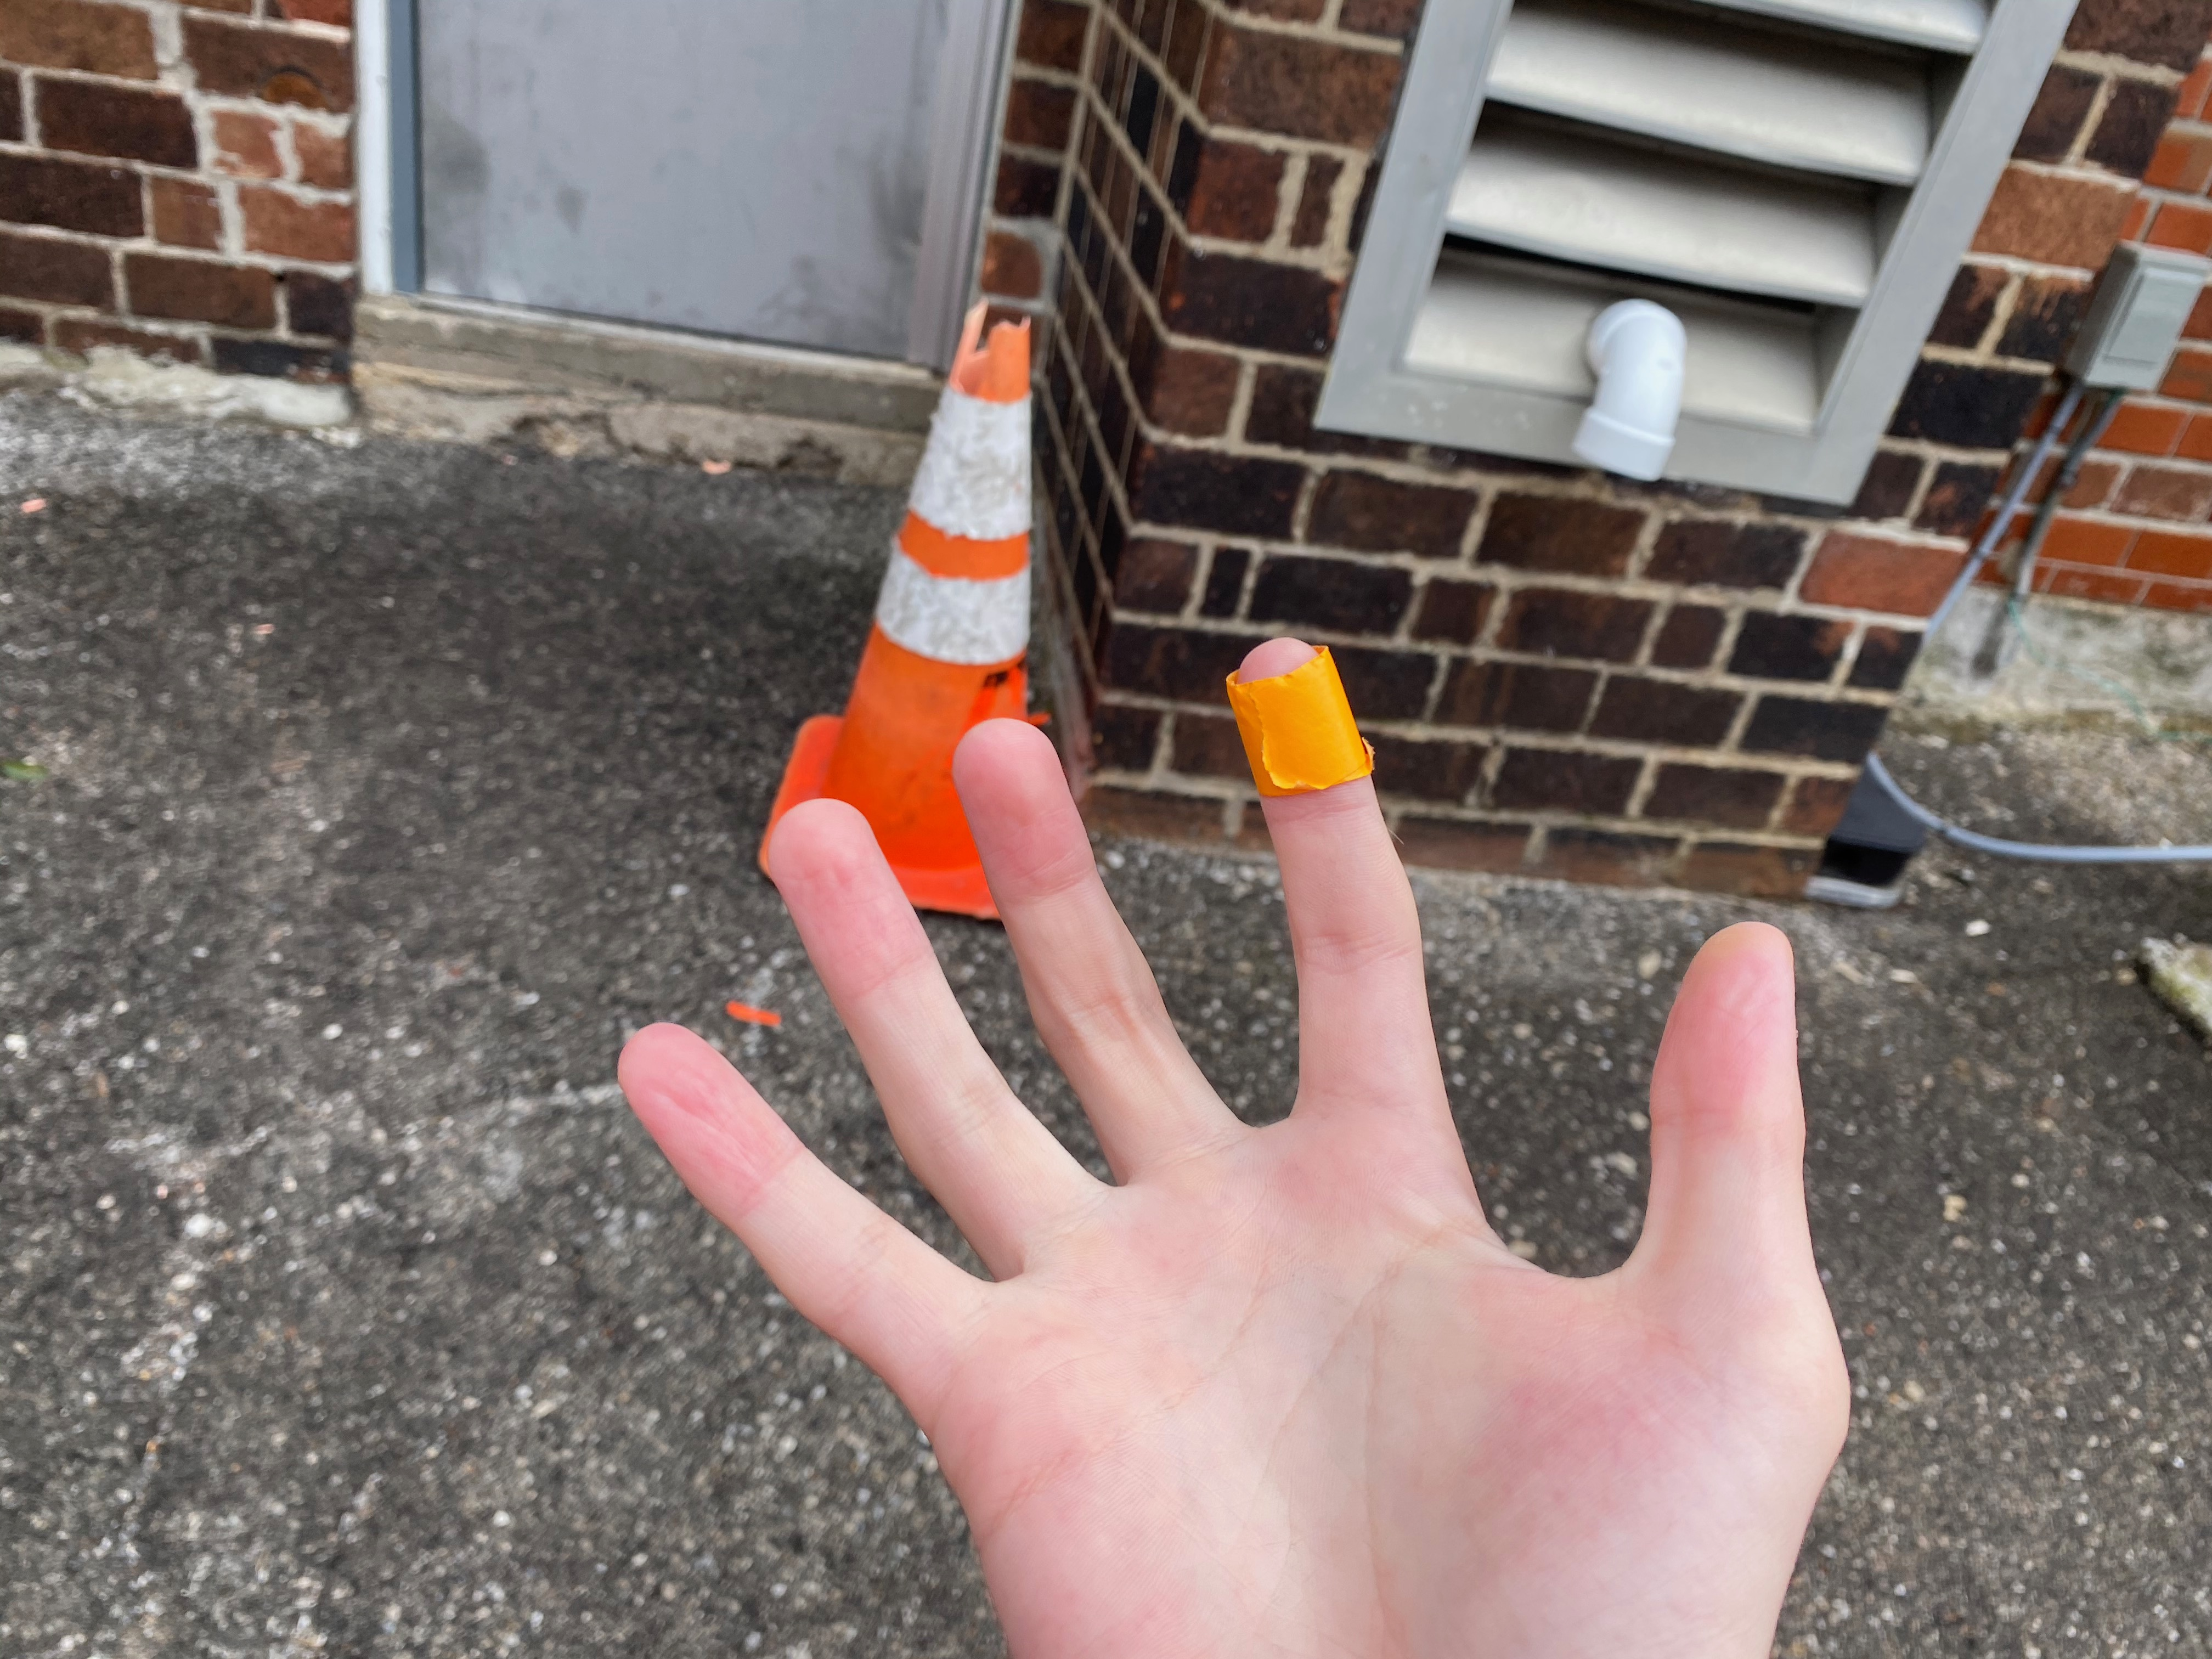fingertip: (1205, 626, 1367, 823)
